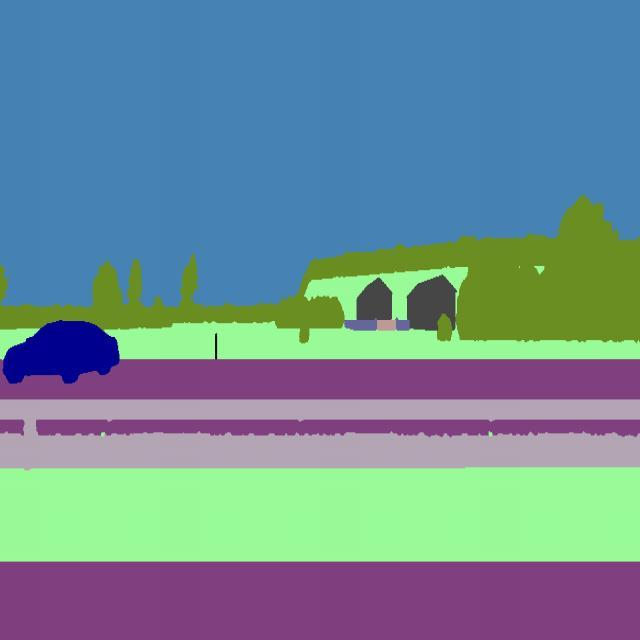safe: (0, 313, 122, 392)
